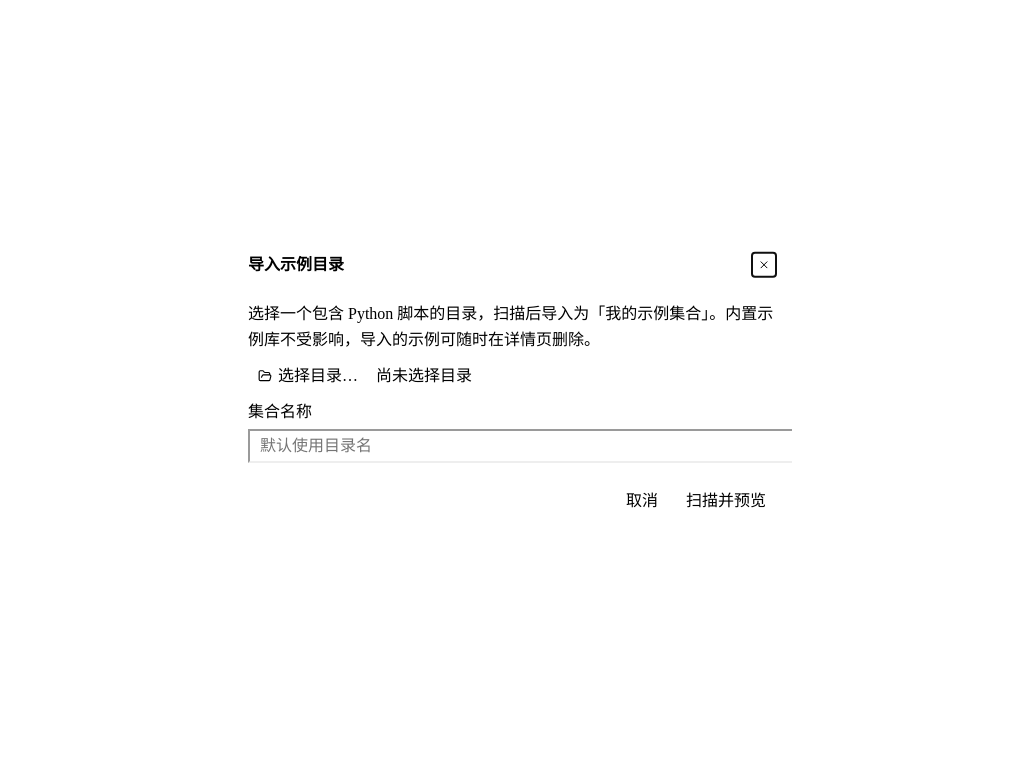
Test case: ImportWizardModal › 目录内无可导入 .py 时停在第一步并给出错误
Click the button "选择目录…" at x=308, y=376, box [248,364,368,388]
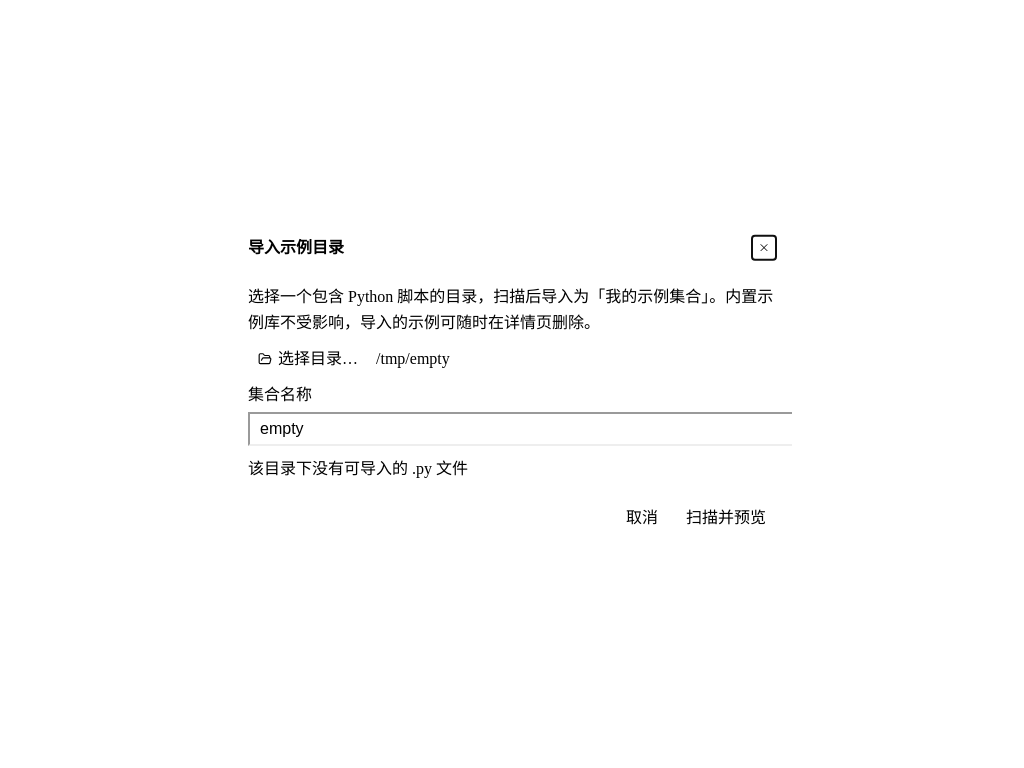
Expected: the text "导入示例目录" is shown, [248,237,344,258]
Expected: the text "该目录下没有可导入的 .py 文件" is shown, [248,460,468,477]
